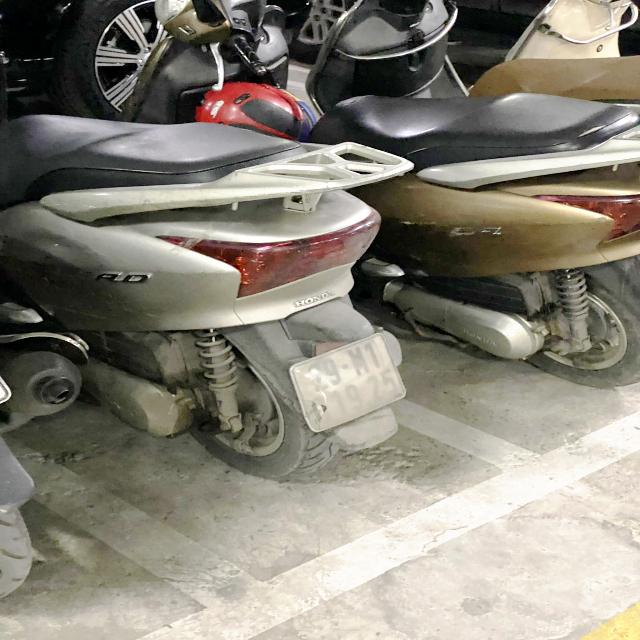license_plate: (282, 326, 415, 439)
